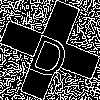D: (25, 25, 76, 81)
